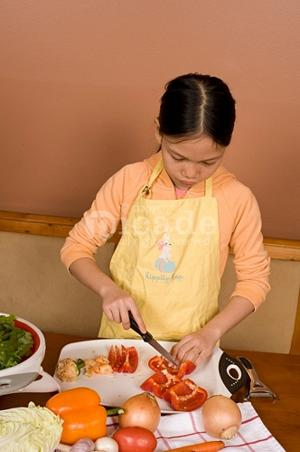person: (58, 70, 272, 371)
